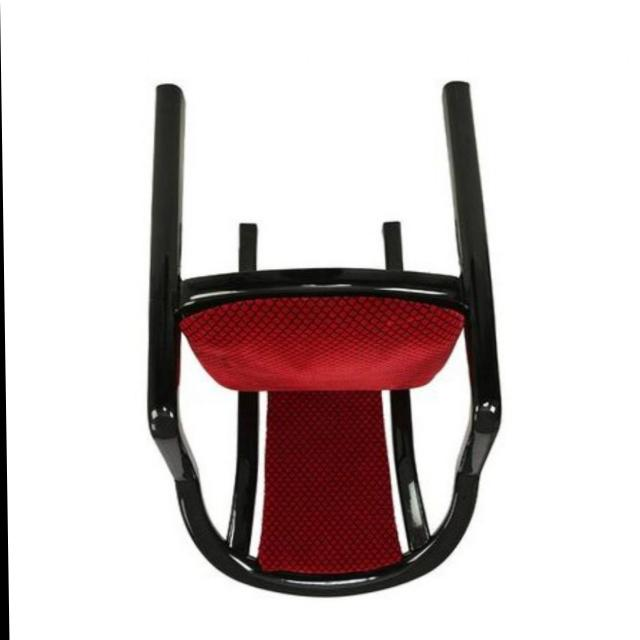Chair: (137, 80, 507, 598)
